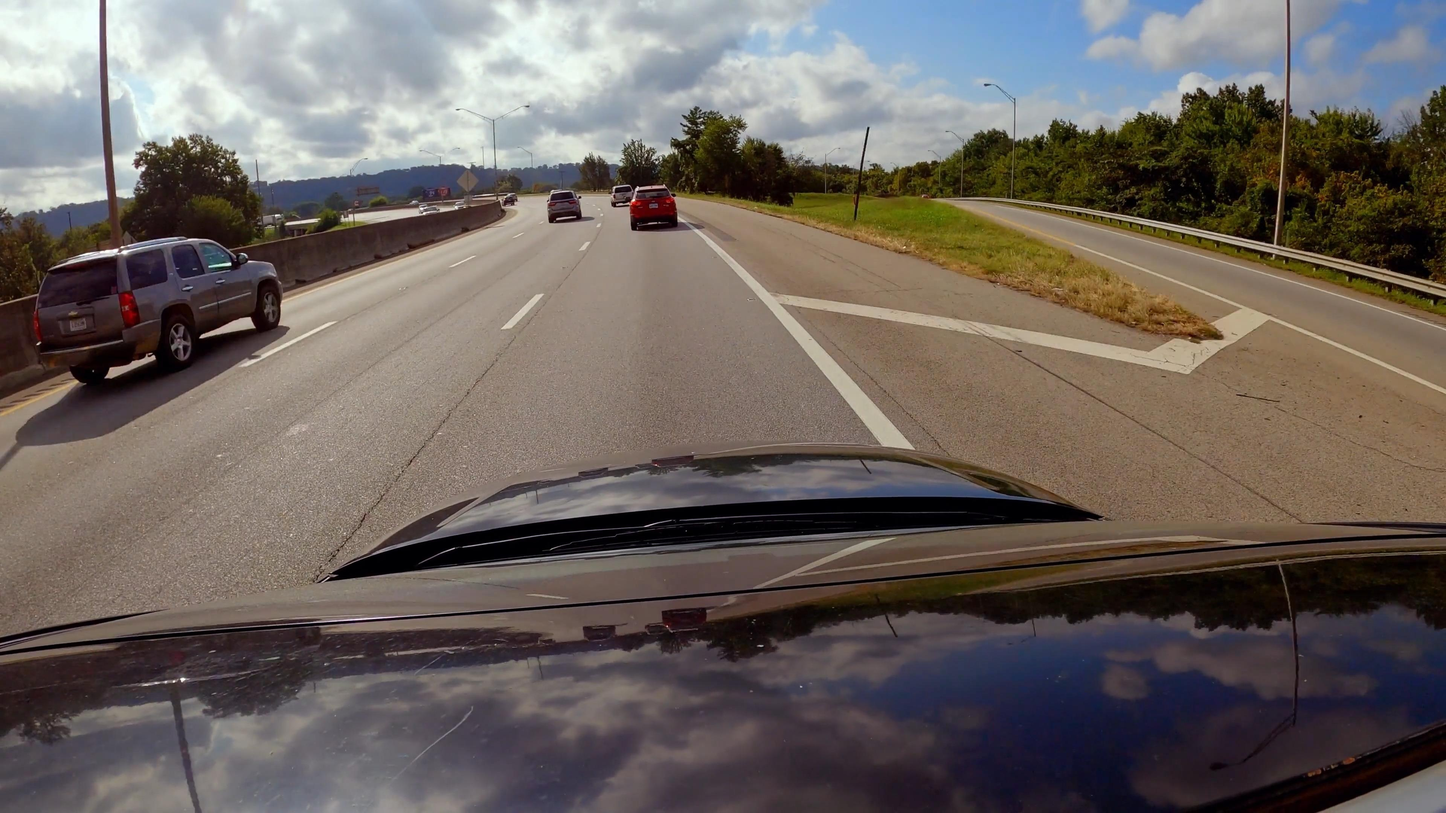Ice: (0, 190, 1446, 636)
